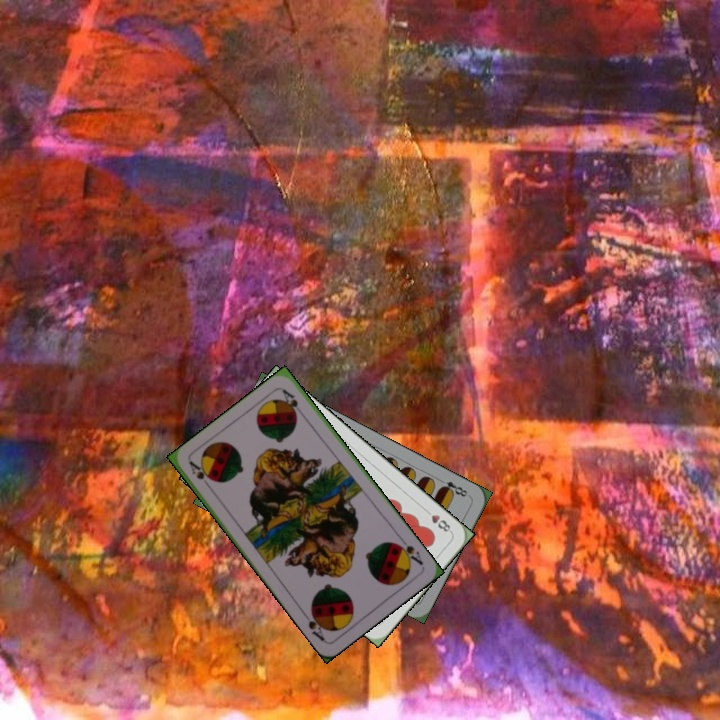E8: (435, 475, 472, 499)
H8: (420, 505, 454, 535)
SA: (185, 457, 215, 493), (391, 539, 426, 568)
